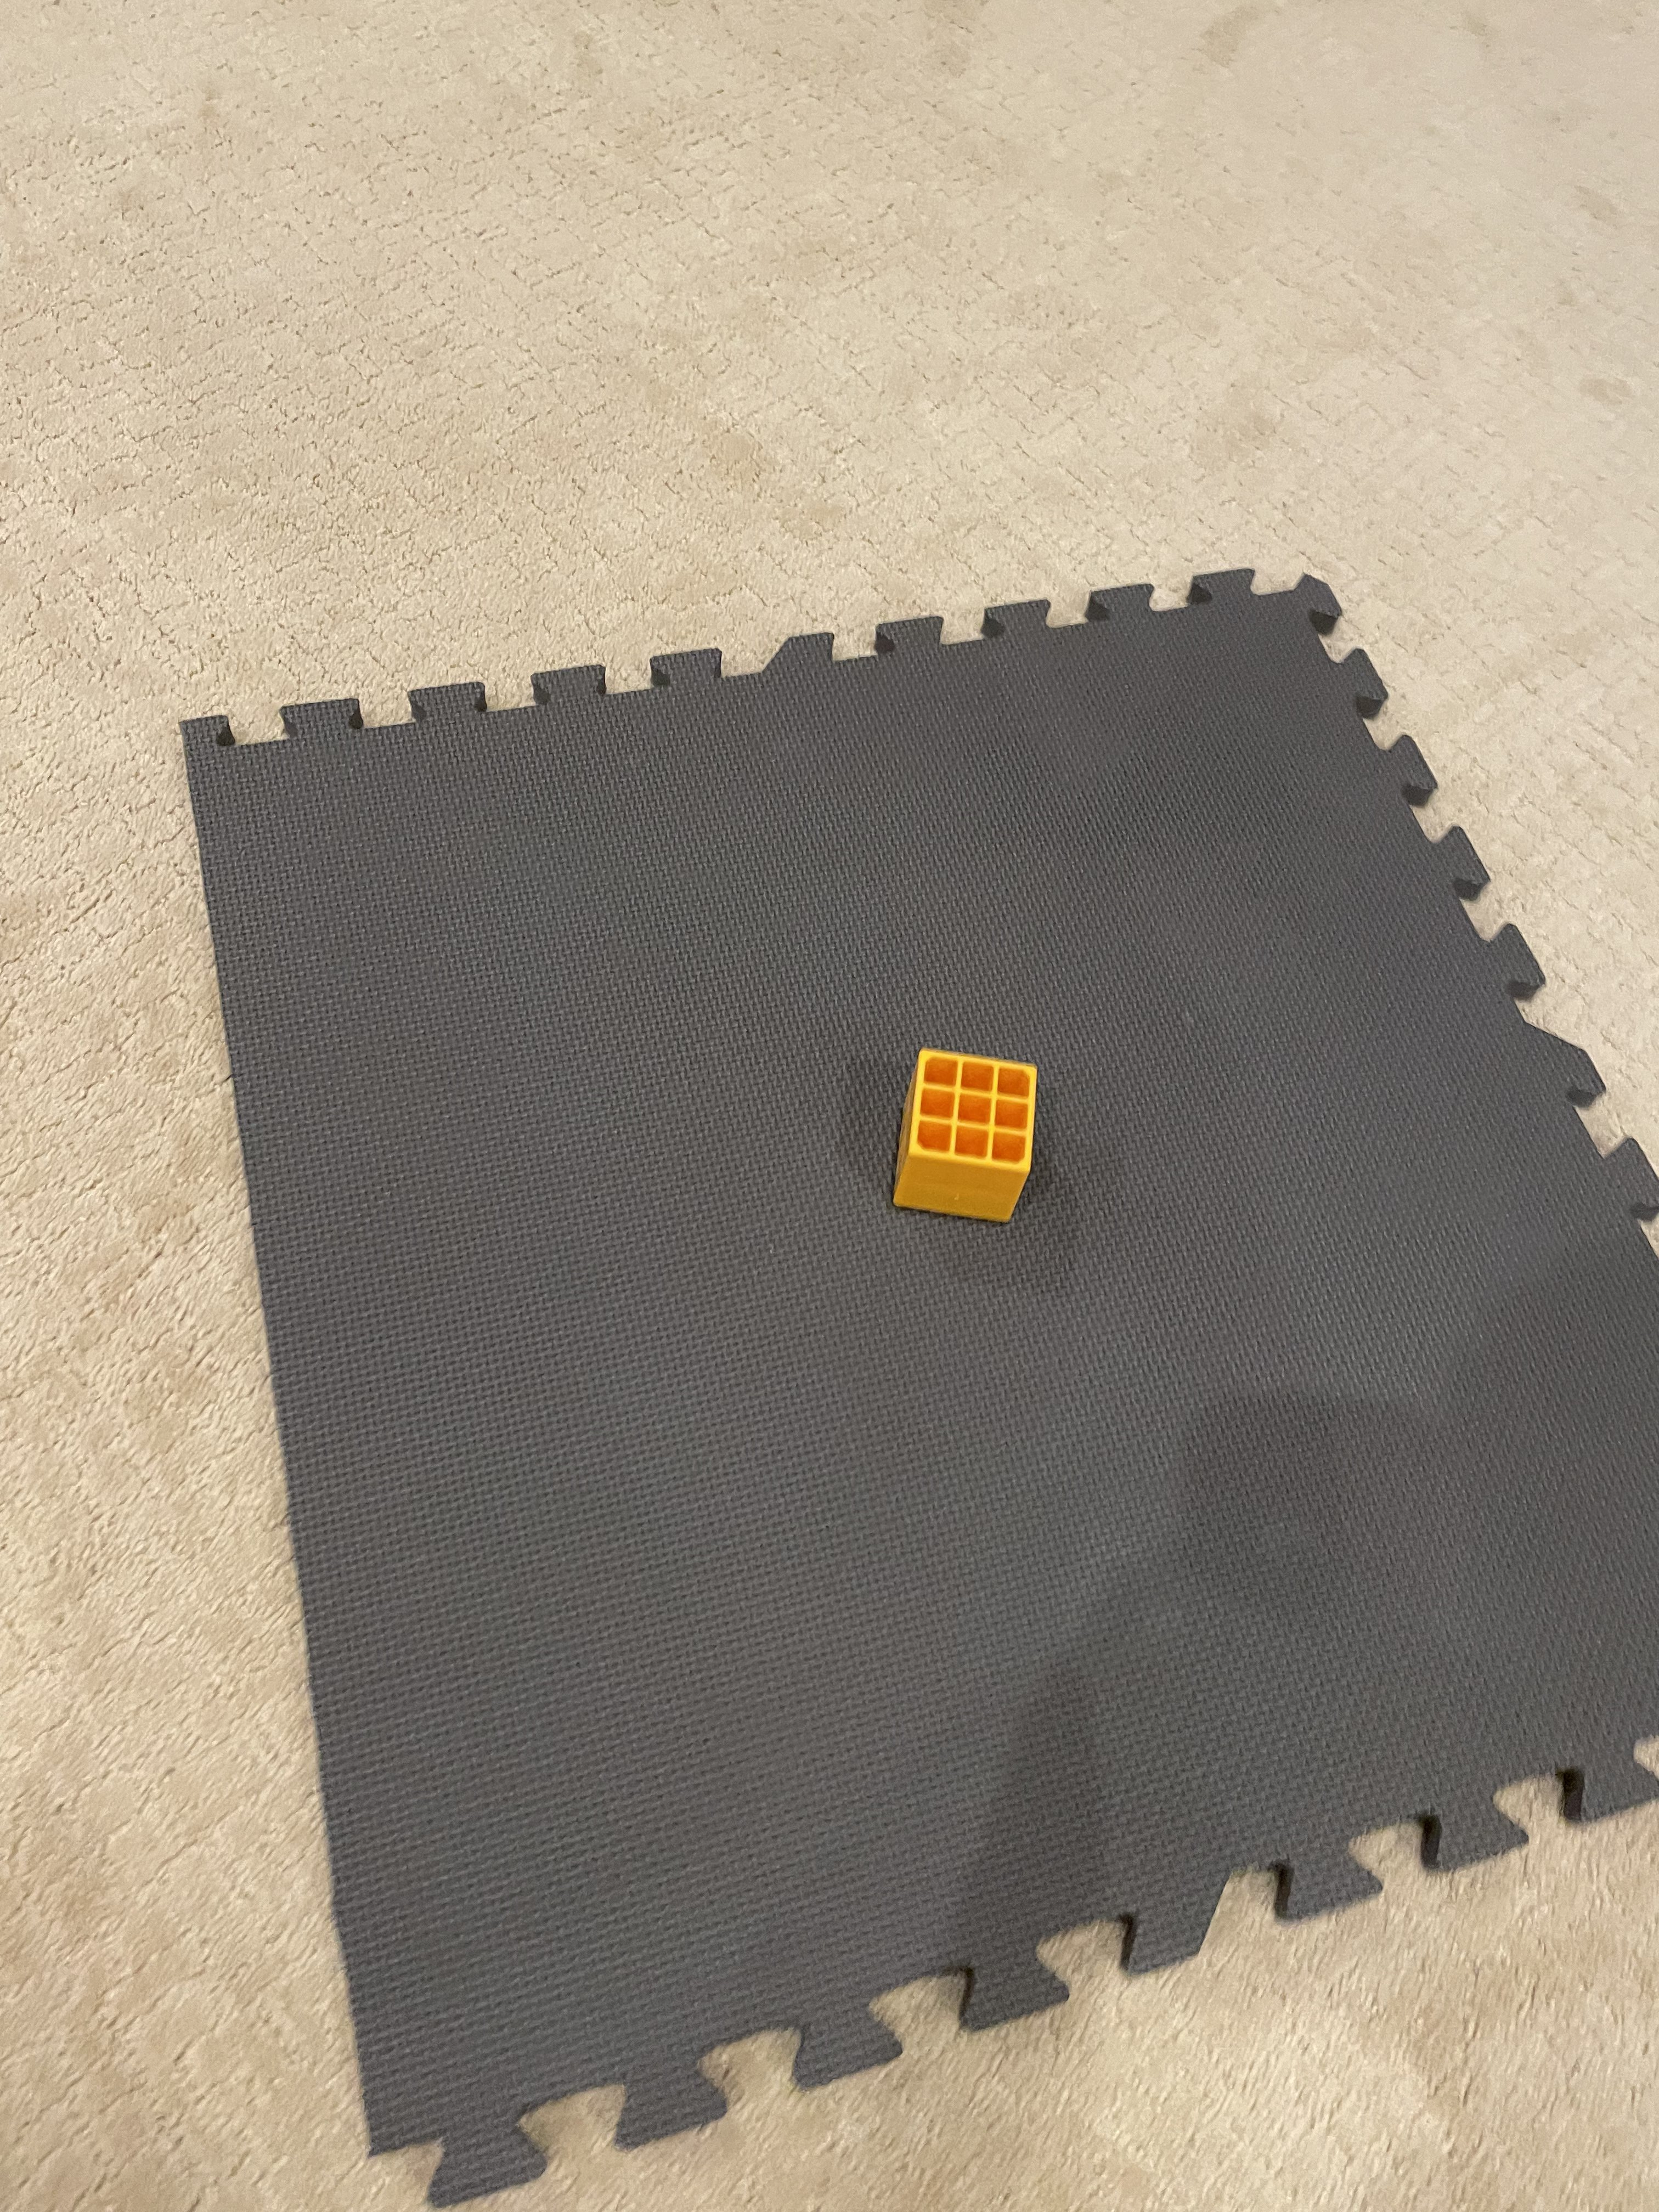cube: (859, 1017, 1086, 1251)
